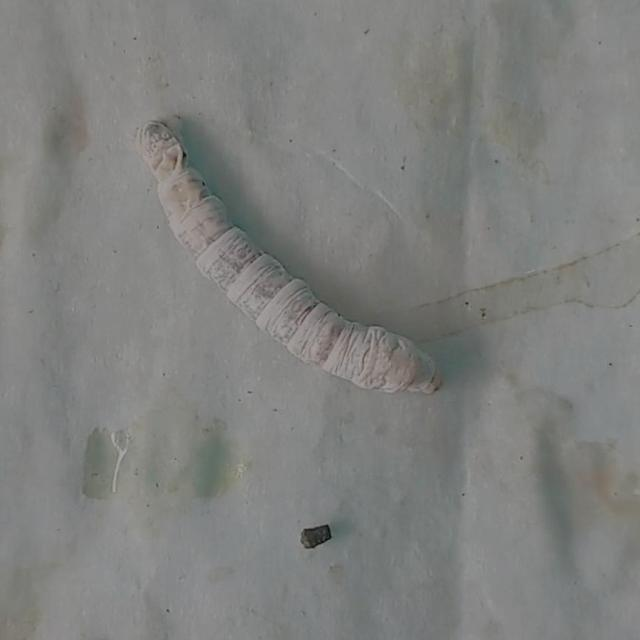Grasserie: (116, 100, 466, 422)
